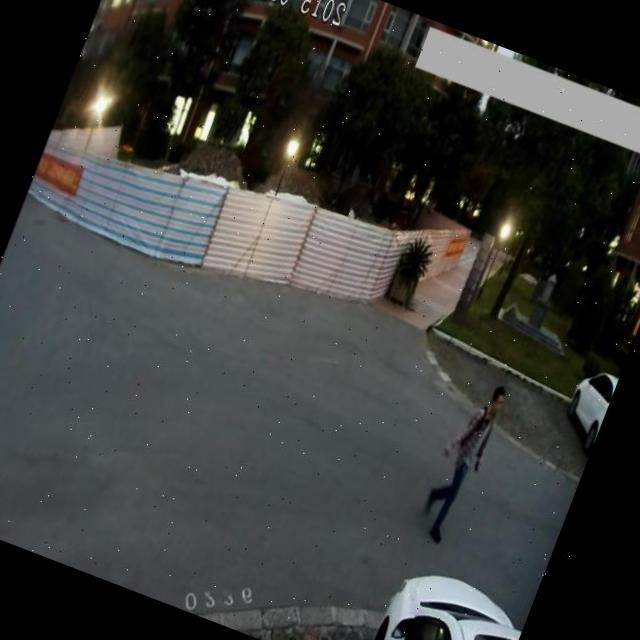person: (407, 372, 514, 558)
